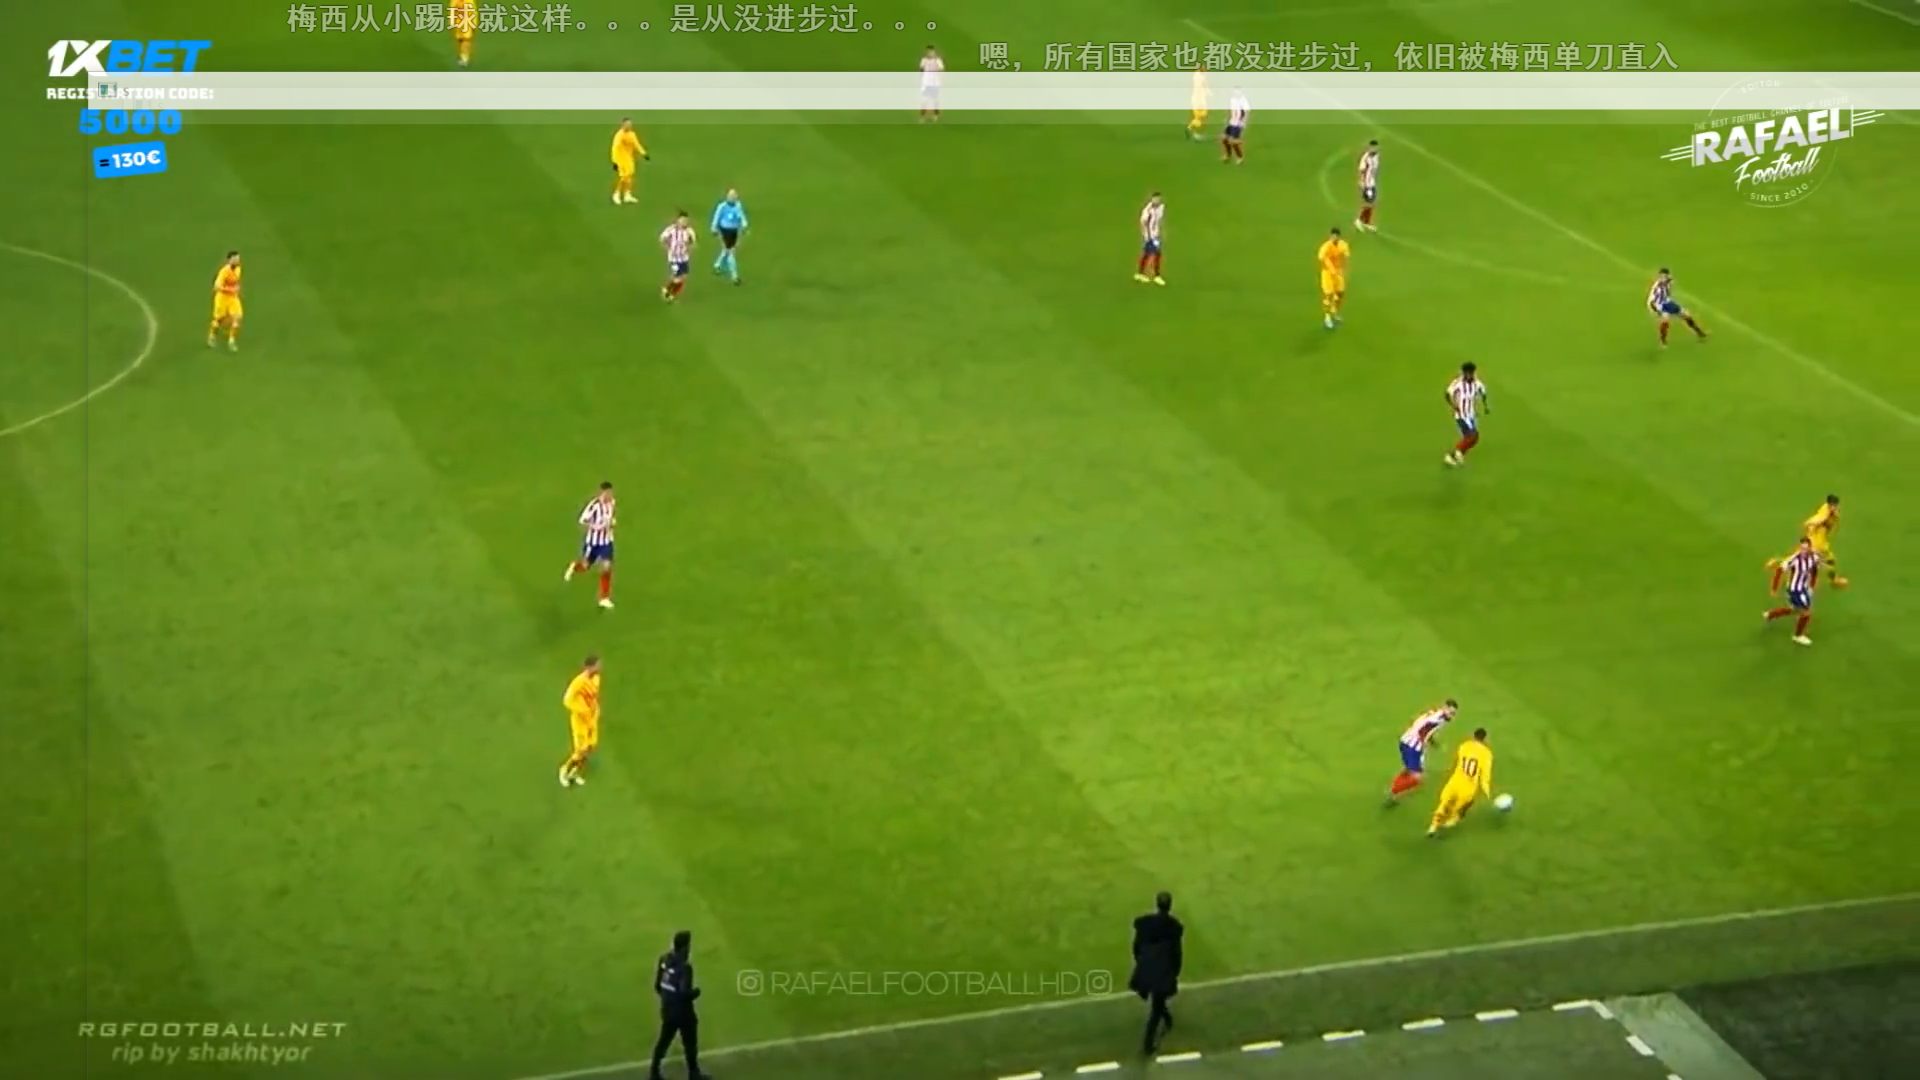ft: (1493, 789, 1518, 814)
